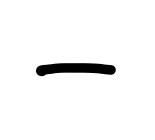minus: (36, 63, 116, 76)
